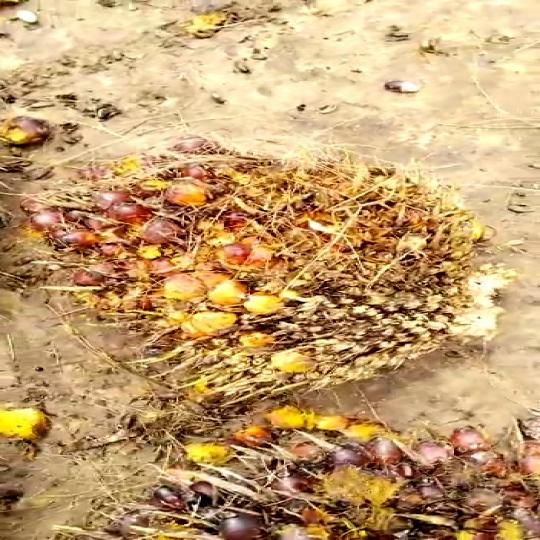masak: (41, 137, 523, 418)
